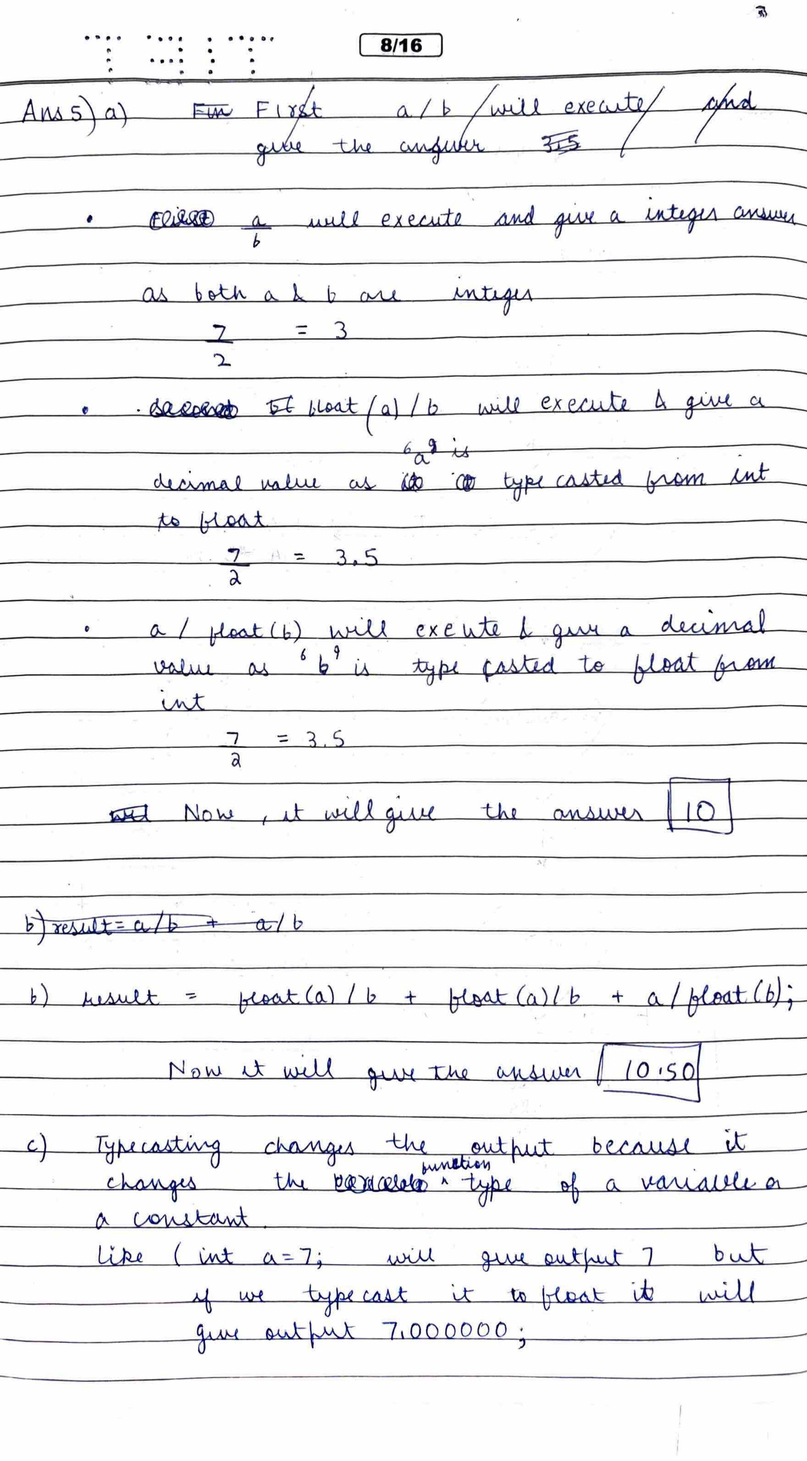cuttings: (192, 79, 760, 170), (23, 907, 304, 946), (333, 1170, 429, 1196), (149, 396, 239, 421), (147, 205, 216, 234), (109, 802, 151, 824), (264, 393, 296, 417), (399, 470, 425, 493), (454, 473, 477, 493)
